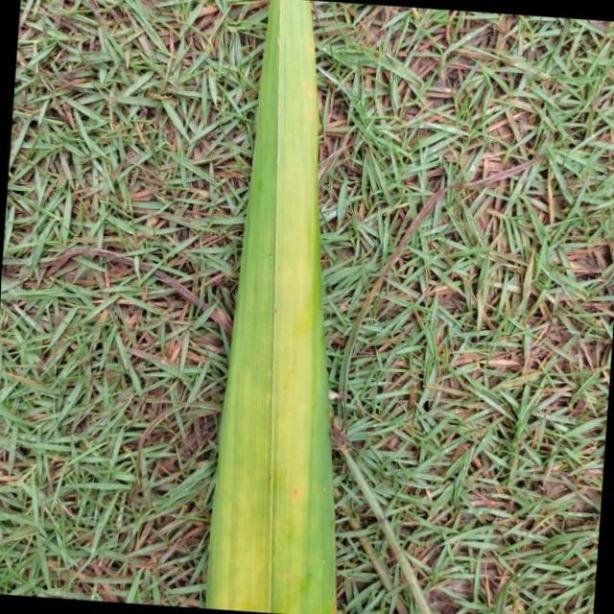nitrogen: (198, 0, 336, 614)
